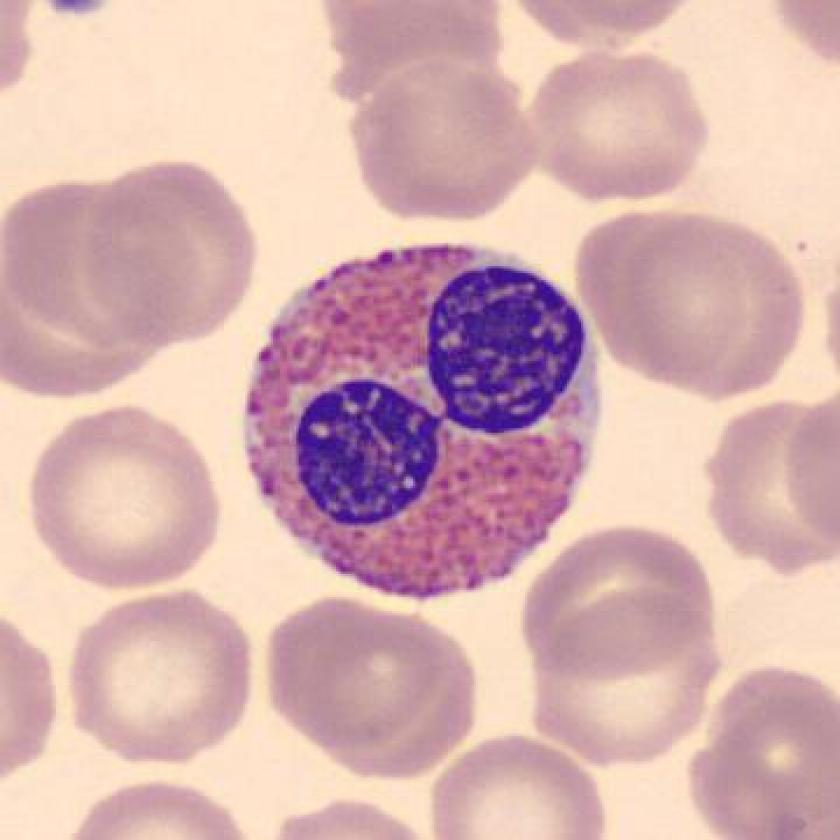eosinophil: (230, 233, 612, 617)
